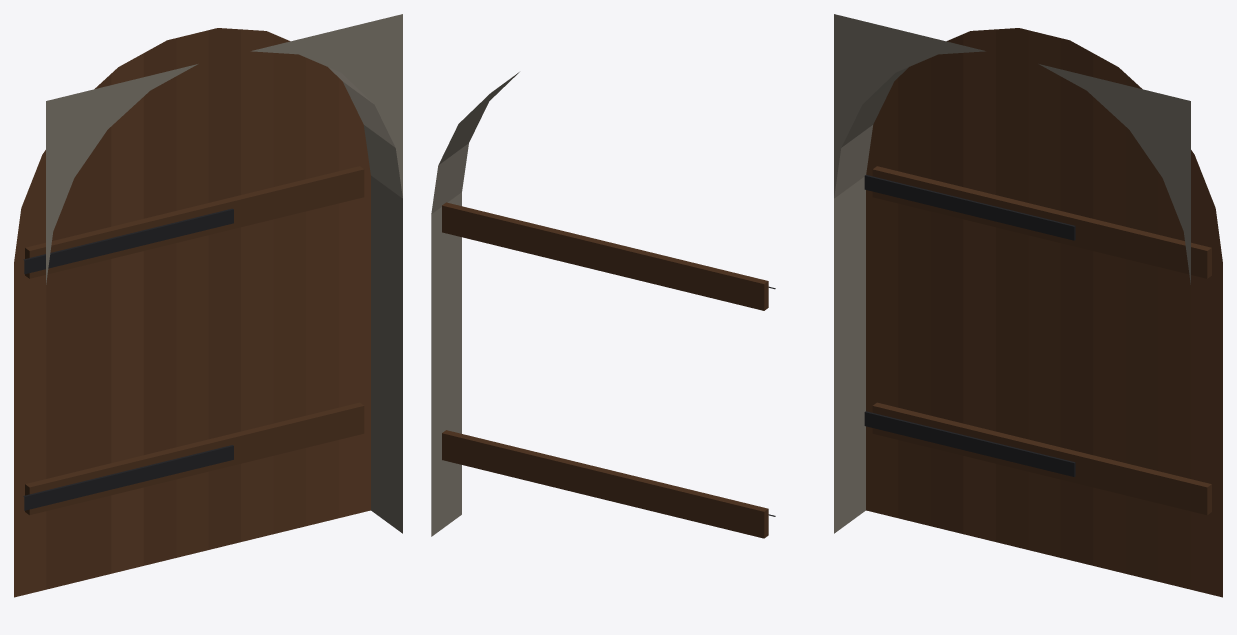
Rendered from arched_wide_01.glb.
3 views of the same model, side by side, from view 1: azimuth 30°, elevation 25°; view 2: azimuth 150°, elevation 25°; view 3: azimuth 330°, elevation 25° (orthographic). The views are drawn at different scales.
Parts seen in each view (by area): view 1: door_arched_wide_01; view 2: door_arched_wide_01; view 3: door_arched_wide_01.
Part boxes in pixels (x1,y1,x2,y2): door_arched_wide_01: [14, 14, 402, 597]; door_arched_wide_01: [431, 72, 775, 538]; door_arched_wide_01: [834, 14, 1222, 597].
Bounding box in the file's own units: 1.61 × 2.24 × 0.25.
